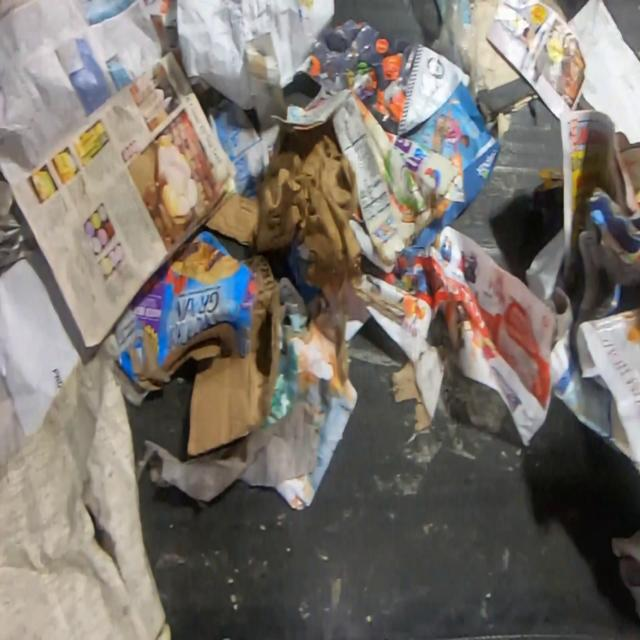cardboard: (100, 227, 278, 455), (202, 127, 362, 287)
soft_plastic: (430, 1, 487, 105)
